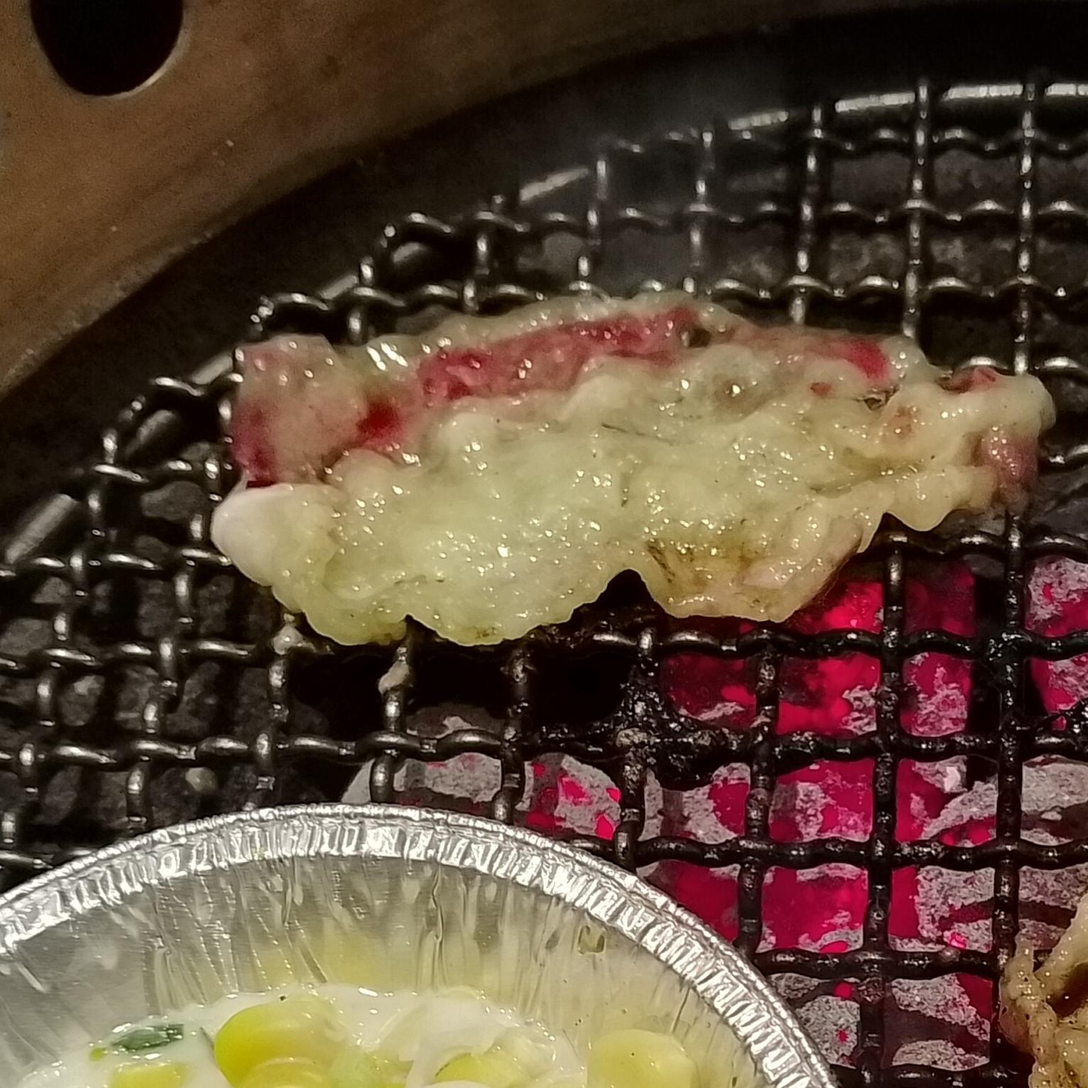Undercooked: (212, 292, 1055, 646)
